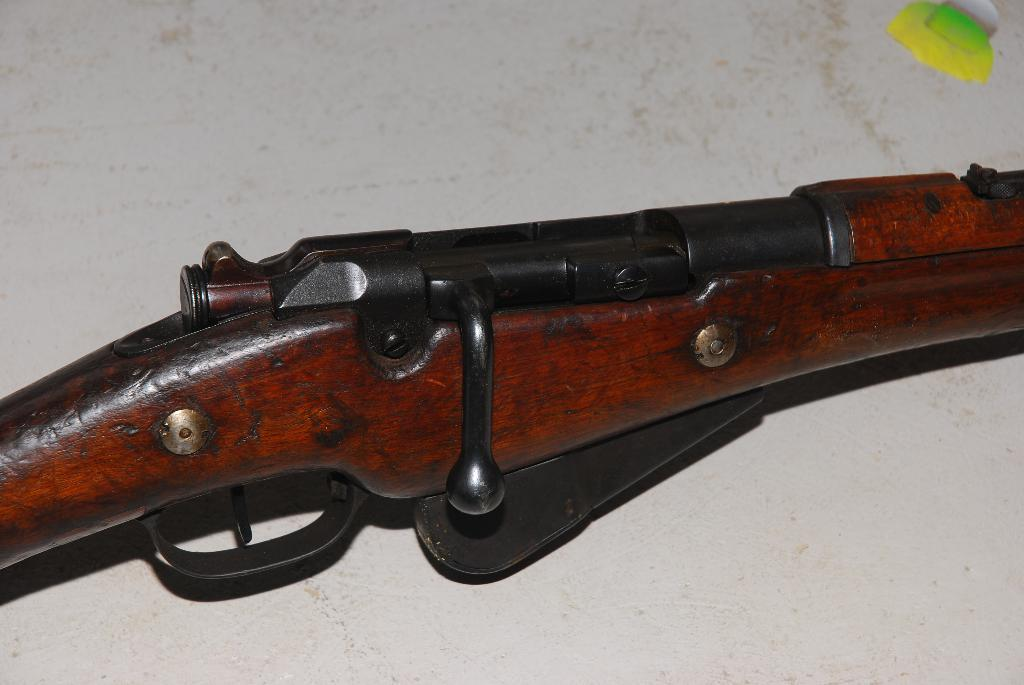Shotgun: (0, 161, 1023, 579)
